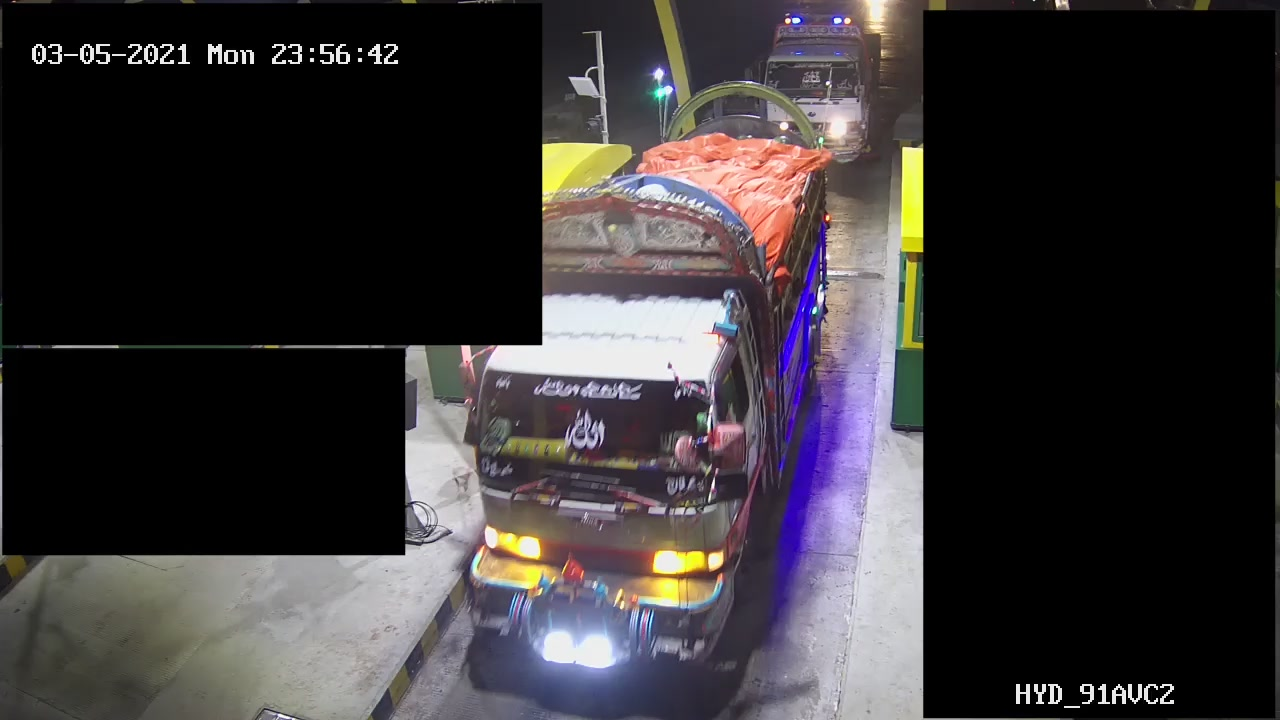F5: (451, 65, 833, 705)
